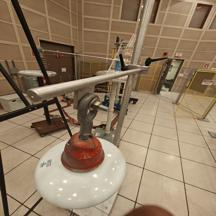insulator: (29, 127, 130, 212)
